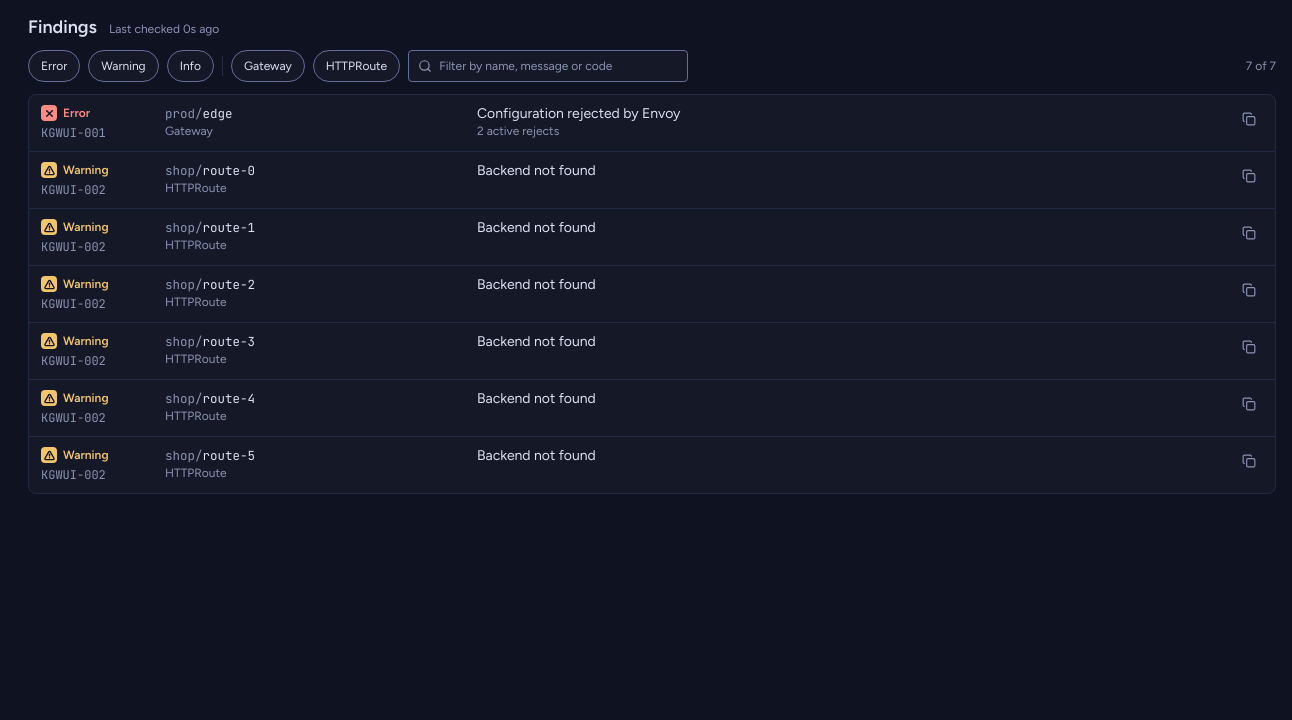
Test case: findings page filters by severity chip and keeps it in the URL
Click the button "Error": x=54, y=66 x1=28 y1=50 x2=80 y2=82
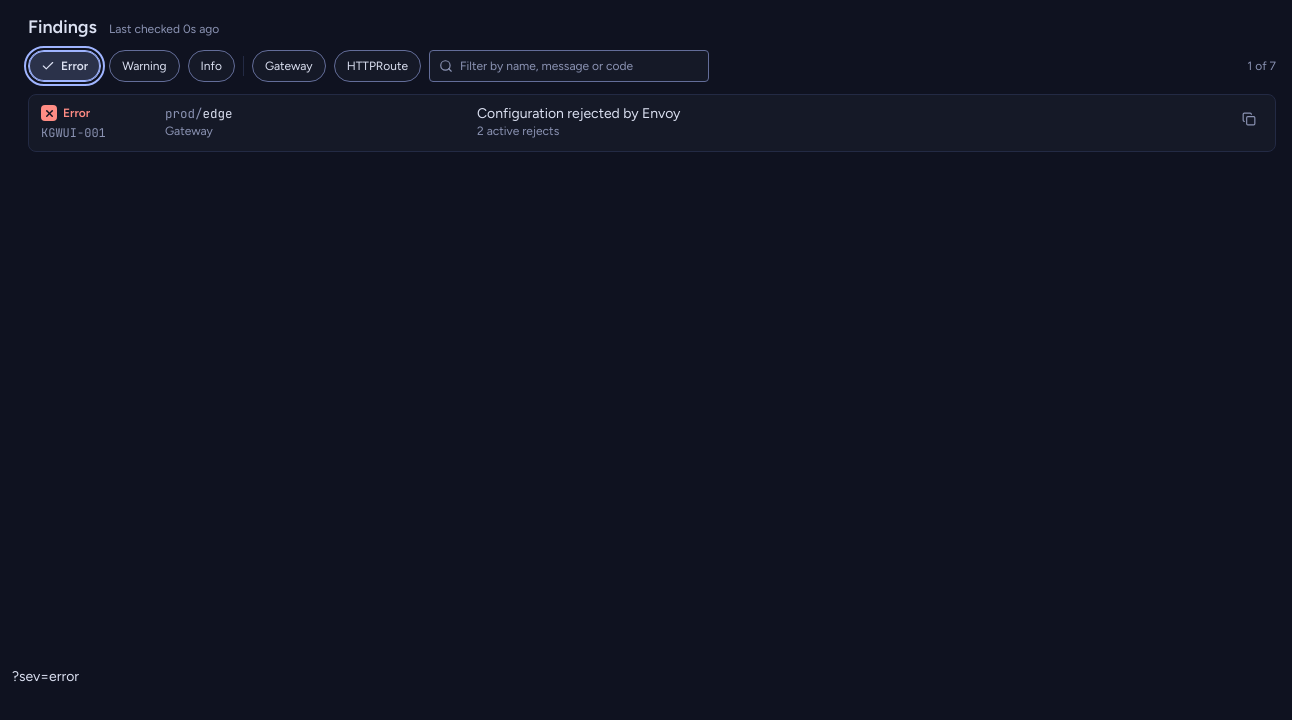
Expected: the number of elements with test id "finding-row" is 1, x1=29 y1=95 x2=1275 y2=150
Expected: the text with test id "location" reads "?sev=error", x1=12 y1=668 x2=79 y2=685
Click the button "Error": x=65, y=66 x1=28 y1=50 x2=101 y2=82
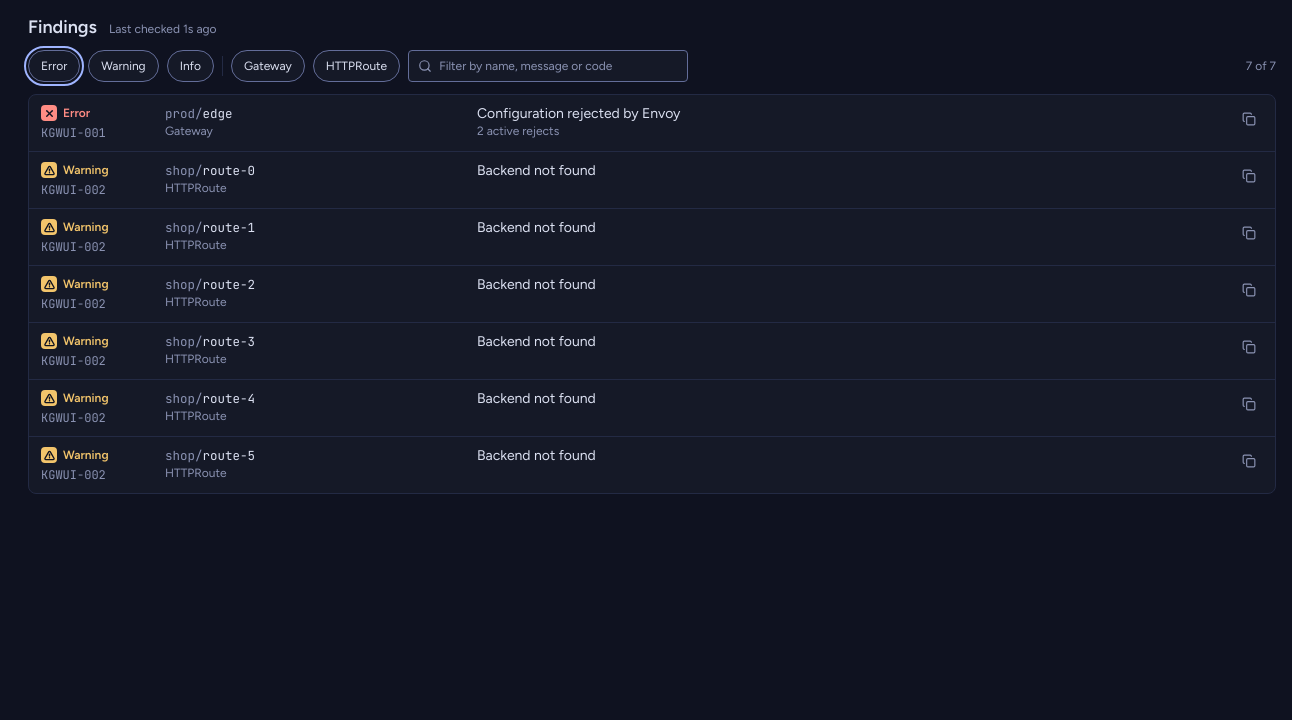
Expected: the number of elements with test id "finding-row" is 7
